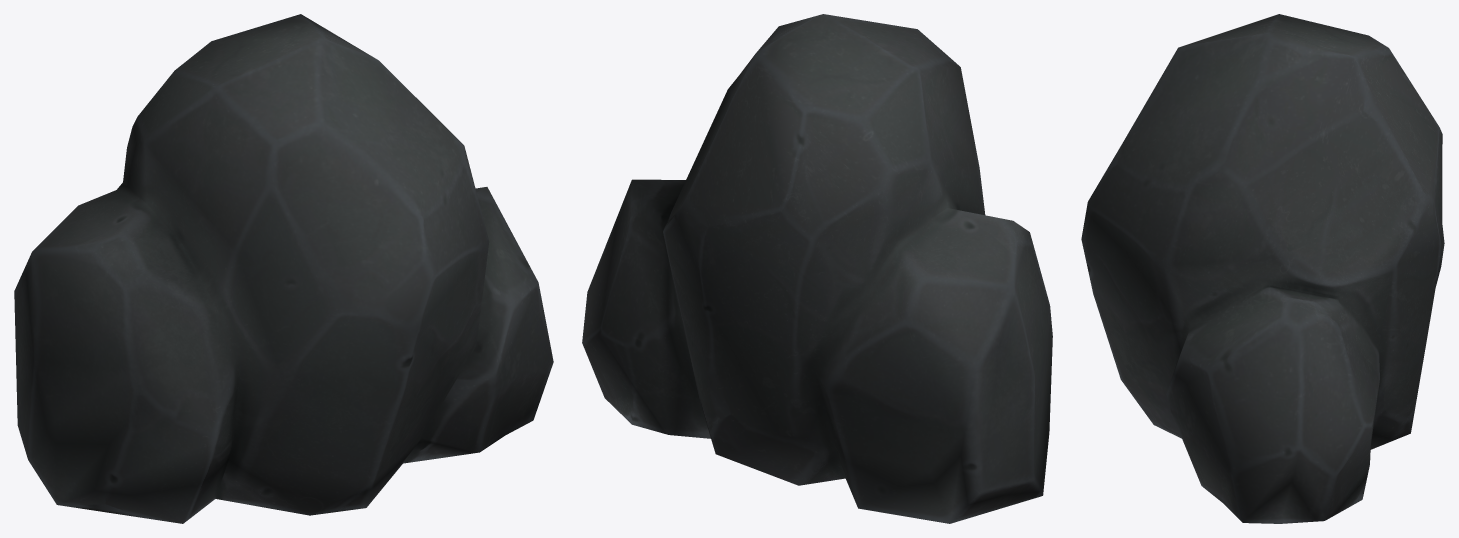
The picture shows the model from 3 angles, left to right: view 1: azimuth 30°, elevation 25°; view 2: azimuth 150°, elevation 25°; view 3: azimuth 270°, elevation 25°; orthographic projection. The views are drawn at different scales.
Visible parts, largest first — view 1: Stone_low_2; view 2: Stone_low_2; view 3: Stone_low_2.
Boxes of the visible parts, bbox=[...] form: Stone_low_2: bbox=[14, 14, 553, 523]; Stone_low_2: bbox=[582, 14, 1052, 523]; Stone_low_2: bbox=[1081, 14, 1444, 523].
Bounding box in the file's own units: 3.68 × 3.1 × 2.56.
Materials: 1 (1 with a texture image).
